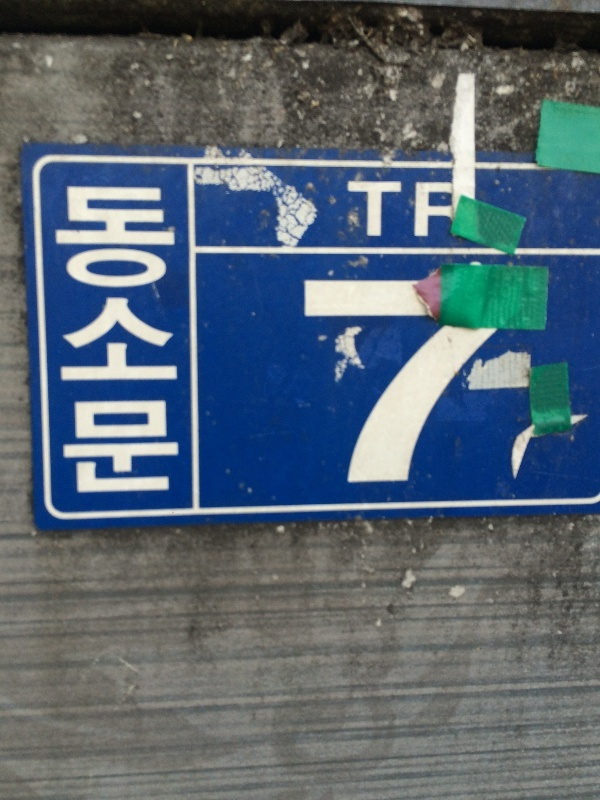text: (65, 179, 80, 505), (81, 179, 96, 505), (97, 179, 112, 505), (113, 179, 128, 505), (129, 179, 144, 505), (145, 179, 160, 505), (161, 179, 176, 505), (53, 179, 64, 505), (305, 266, 320, 492), (321, 266, 336, 492), (337, 266, 352, 492), (353, 266, 368, 492), (369, 266, 384, 492), (385, 266, 400, 492), (401, 266, 416, 492), (417, 266, 432, 492), (433, 266, 448, 492), (449, 266, 464, 492), (465, 266, 480, 492), (481, 266, 496, 492), (497, 266, 512, 492), (513, 266, 524, 492), (177, 179, 182, 505), (353, 177, 368, 244), (369, 177, 384, 244), (385, 177, 400, 244), (401, 177, 416, 244), (417, 177, 432, 244), (433, 177, 448, 244), (301, 266, 304, 492), (344, 177, 352, 244), (449, 177, 454, 244)
